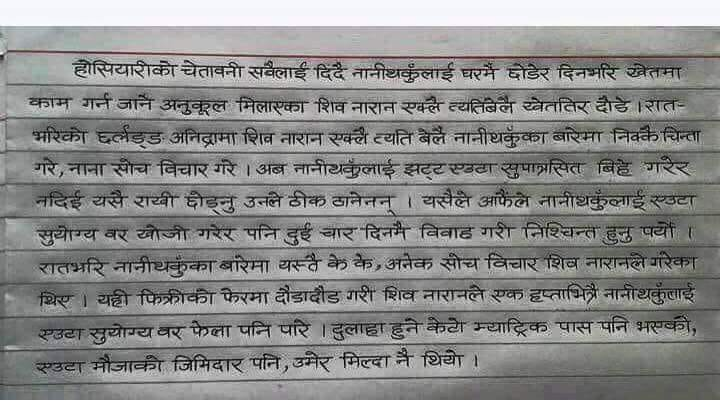text: (63, 55, 180, 80), (292, 156, 401, 181), (538, 189, 649, 212), (350, 61, 459, 83), (112, 254, 217, 276), (452, 127, 549, 150), (332, 188, 399, 218), (602, 283, 697, 304), (500, 158, 586, 181), (137, 285, 216, 310), (94, 123, 167, 149), (234, 92, 310, 116), (183, 187, 239, 217), (245, 59, 312, 84), (168, 354, 247, 375), (33, 223, 99, 248), (89, 352, 164, 374), (472, 317, 552, 337), (525, 283, 601, 304), (273, 283, 342, 306), (555, 60, 621, 84), (88, 322, 154, 346), (483, 248, 541, 275), (159, 95, 230, 117), (175, 59, 245, 81), (521, 221, 601, 240), (29, 120, 89, 145), (448, 94, 515, 116), (169, 126, 239, 147), (585, 251, 648, 274), (35, 258, 106, 278), (420, 282, 487, 303), (520, 96, 592, 115), (633, 313, 692, 336), (32, 189, 85, 214), (338, 347, 391, 372), (624, 61, 684, 83), (329, 319, 387, 341), (218, 253, 273, 276), (133, 221, 190, 243), (476, 190, 532, 212), (608, 123, 660, 146), (383, 250, 435, 273), (155, 157, 211, 178), (649, 250, 700, 273), (418, 189, 473, 210), (643, 154, 693, 177), (360, 220, 412, 242), (503, 60, 552, 83), (650, 189, 698, 212), (188, 318, 235, 341), (552, 125, 603, 146), (289, 348, 333, 372), (418, 347, 468, 368), (417, 221, 472, 240), (32, 358, 87, 377), (660, 123, 703, 147), (540, 251, 583, 275), (221, 286, 271, 306), (276, 253, 321, 275), (34, 288, 77, 311), (35, 325, 86, 344), (398, 94, 444, 115), (132, 190, 178, 211), (448, 158, 496, 178), (22, 93, 75, 111), (237, 317, 276, 341), (403, 160, 447, 181), (287, 188, 329, 210), (438, 252, 482, 273), (425, 315, 467, 337), (243, 191, 286, 212), (196, 222, 237, 244), (349, 98, 398, 116), (329, 126, 371, 147), (240, 124, 276, 148), (371, 127, 414, 147), (109, 158, 151, 178), (594, 156, 634, 177), (278, 318, 314, 341), (278, 129, 326, 146), (414, 123, 448, 147), (93, 289, 133, 309), (389, 316, 421, 341), (638, 219, 676, 240), (311, 93, 347, 115), (460, 61, 499, 81), (243, 222, 282, 242), (380, 285, 419, 305), (91, 190, 127, 211), (313, 61, 347, 83), (66, 159, 107, 177), (117, 93, 155, 112), (477, 221, 515, 240), (488, 285, 526, 304), (102, 223, 133, 246), (602, 223, 634, 245), (284, 223, 314, 246), (594, 95, 630, 114), (599, 316, 633, 336), (643, 94, 675, 115), (345, 284, 377, 305), (80, 90, 114, 109), (252, 160, 290, 177), (319, 225, 357, 242), (557, 318, 595, 335), (250, 352, 284, 371), (323, 250, 349, 274), (31, 155, 59, 177), (157, 321, 185, 343), (211, 157, 239, 178), (392, 346, 416, 370), (352, 250, 376, 273)
